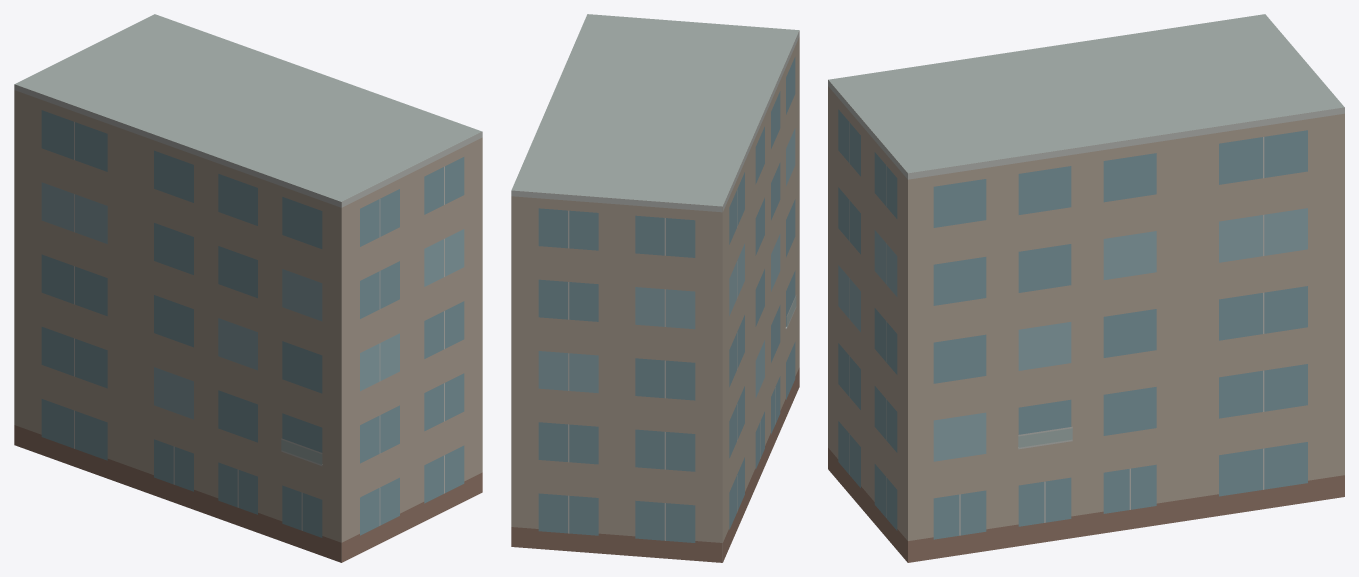
The model's file is survey-upis-32962877.glb.
3 views of the same model, side by side, from view 1: azimuth 30°, elevation 25°; view 2: azimuth 150°, elevation 25°; view 3: azimuth 270°, elevation 25° (orthographic). The views are drawn at different scales.
Parts seen in each view (by area): view 1: survey-upis-32962877.tmp; view 2: survey-upis-32962877.tmp; view 3: survey-upis-32962877.tmp.
Boxes of the visible parts, x1,y1,x2,y2 form: survey-upis-32962877.tmp: (14,14,482,562); survey-upis-32962877.tmp: (511,14,799,562); survey-upis-32962877.tmp: (828,14,1344,562).
Size of the model in its own units: 13.26 by 15.1 by 18.16.
